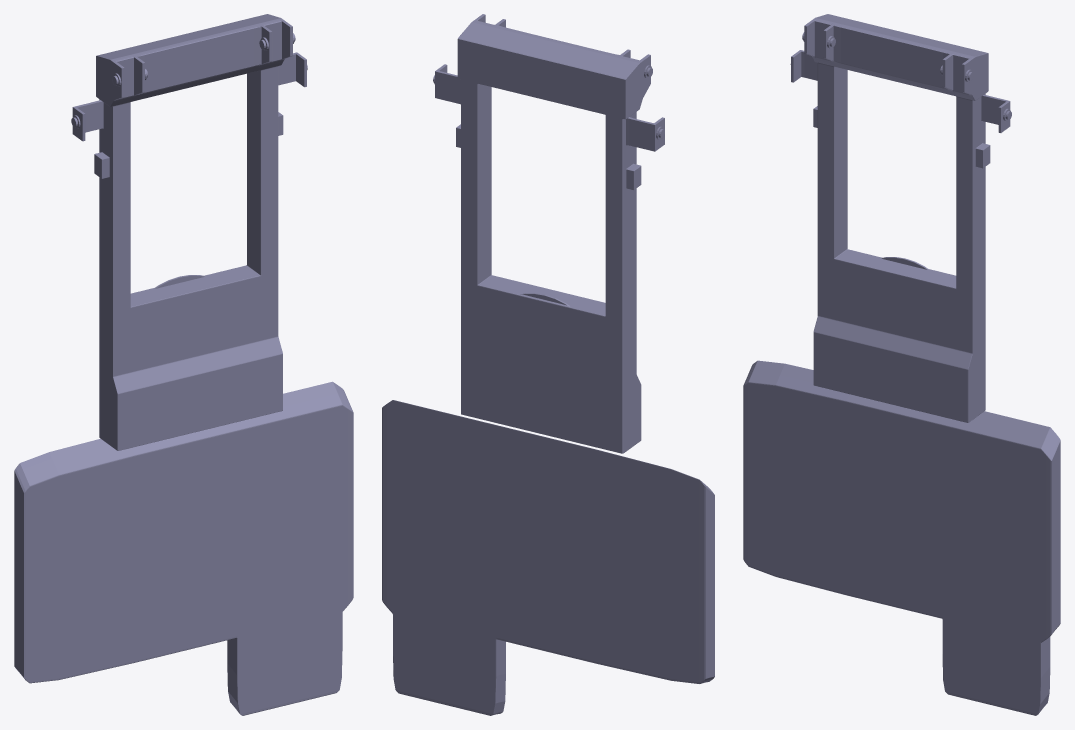
Rendered from upper_LowPoly.obj.
3 renders of one model, left to right at view 1: azimuth 30°, elevation 25°; view 2: azimuth 150°, elevation 25°; view 3: azimuth 330°, elevation 25°, orthographic. The views are drawn at different scales.
Parts seen in each view (by area): view 1: upper_LowPoly\Facets; view 2: upper_LowPoly\Facets; view 3: upper_LowPoly\Facets.
Boxes of the visible parts, x1=… form: upper_LowPoly\Facets: x1=14, y1=14, x2=353, y2=715; upper_LowPoly\Facets: x1=382, y1=14, x2=714, y2=715; upper_LowPoly\Facets: x1=743, y1=14, x2=1060, y2=715.
Size of the model in its own units: 2.66 by 5.34 by 0.3645.
